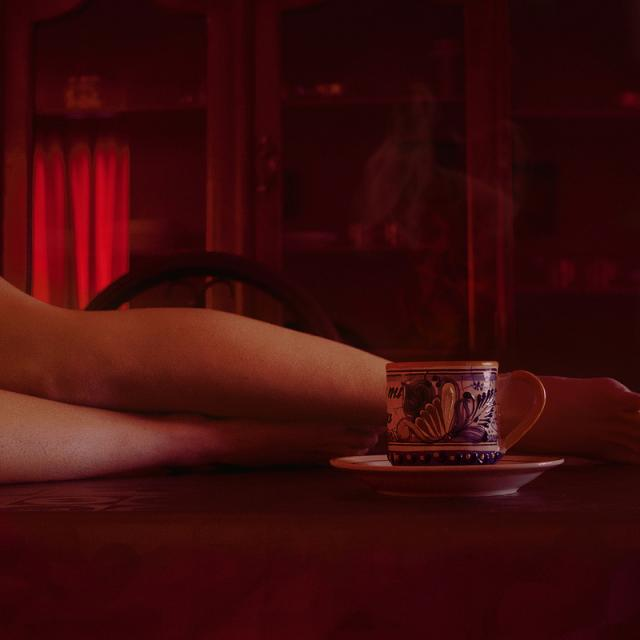Cup: (367, 369, 553, 507)
People: (8, 238, 640, 523)
chair: (98, 217, 316, 390)
